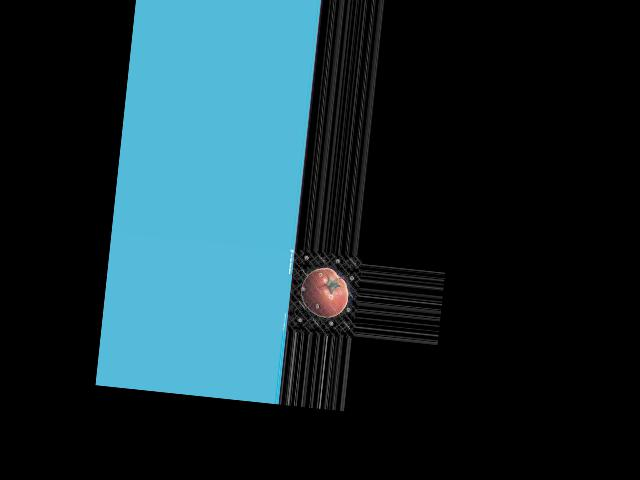tomato: (298, 265, 350, 320)
